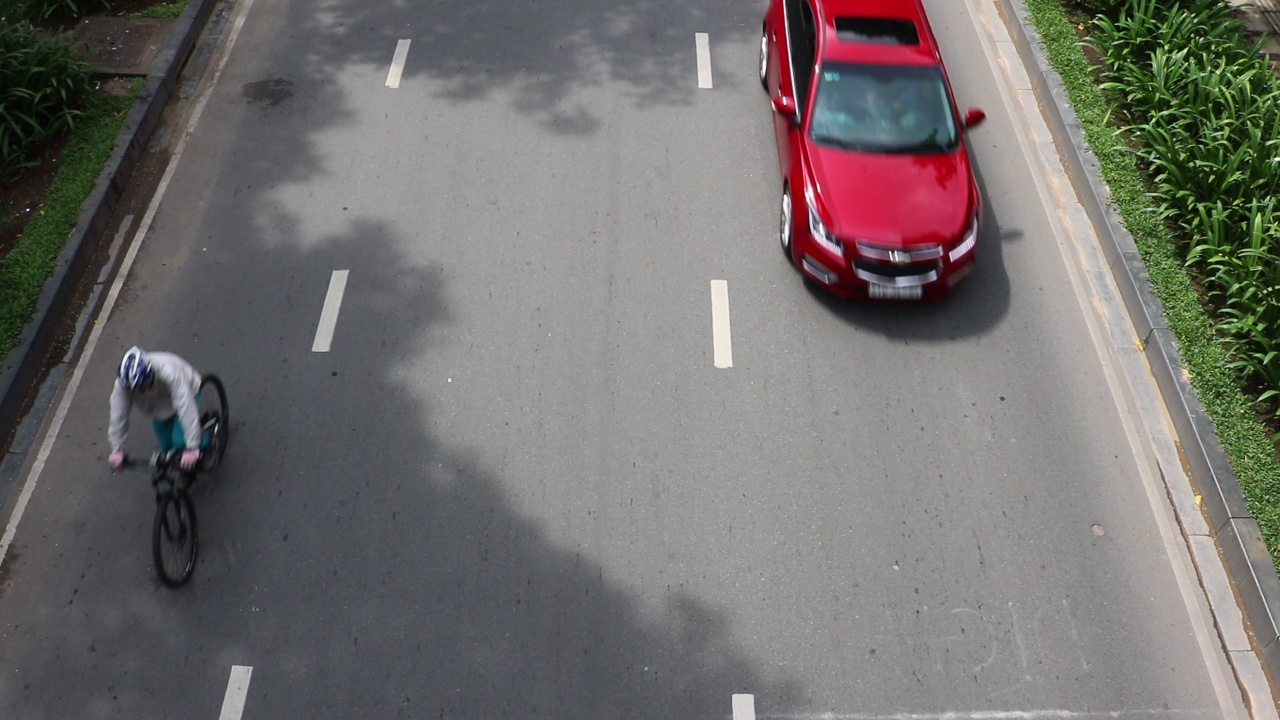bicycle: (146, 401, 232, 588)
car: (757, 0, 987, 303)
